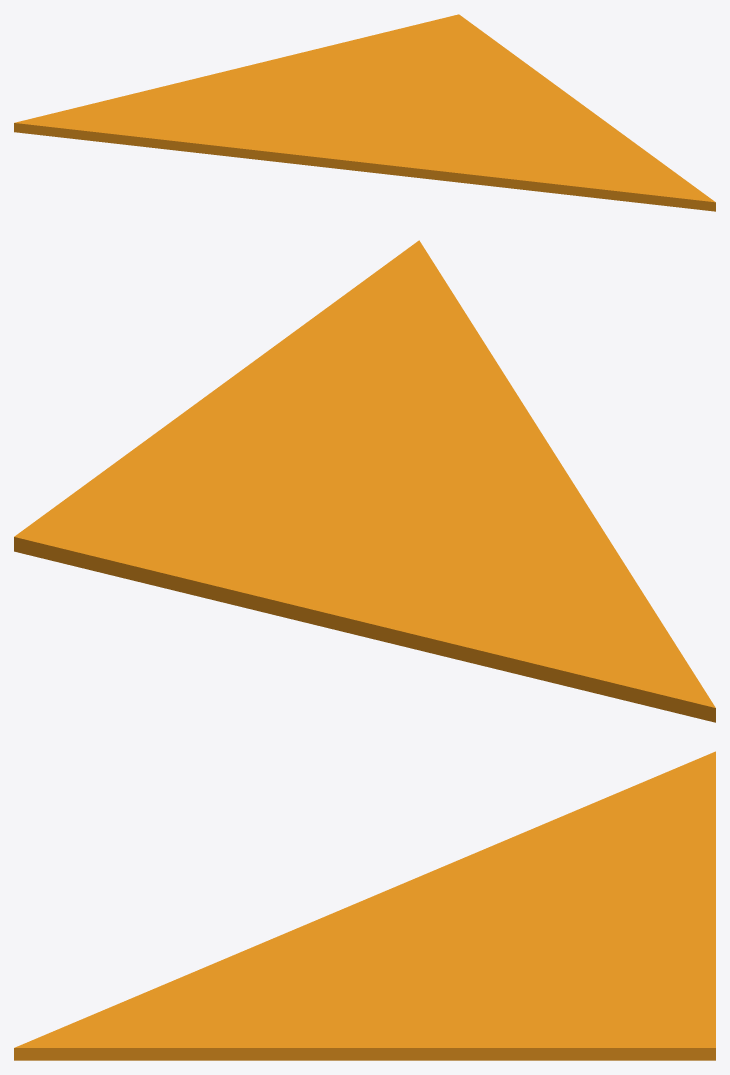
The model's file is SM_Buildings_FloorAngle_5x5_01.fbx.
3 views of the same model, one above another, from view 1: azimuth 30°, elevation 25°; view 2: azimuth 150°, elevation 25°; view 3: azimuth 270°, elevation 25° (orthographic). The views are drawn at different scales.
Parts seen in each view (by area): view 1: SM_Buildings_FloorAngle_5x5_01; view 2: SM_Buildings_FloorAngle_5x5_01; view 3: SM_Buildings_FloorAngle_5x5_01.
Part boxes in pixels (x1,y1,x2,y2): SM_Buildings_FloorAngle_5x5_01: [14, 14, 715, 211]; SM_Buildings_FloorAngle_5x5_01: [14, 240, 715, 722]; SM_Buildings_FloorAngle_5x5_01: [14, 751, 715, 1060].
Bounding box in the file's own units: 500 × 10 × 500.
